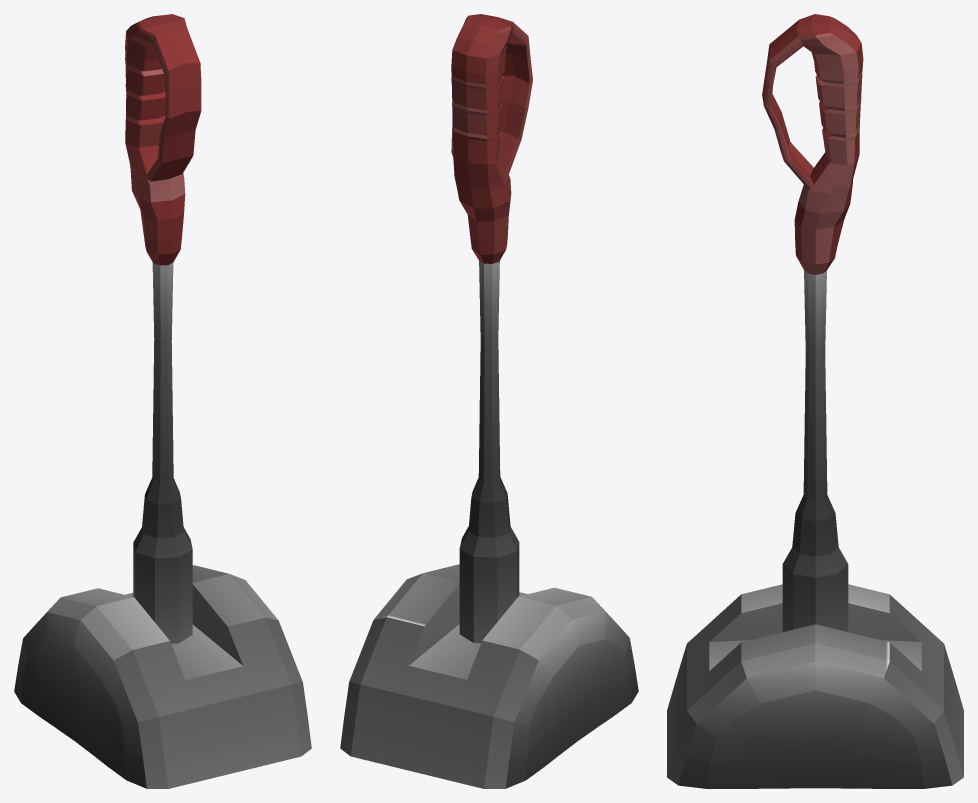
File: lever-Present.fbx
The picture shows the model from 3 angles, left to right: view 1: azimuth 30°, elevation 25°; view 2: azimuth 150°, elevation 25°; view 3: azimuth 270°, elevation 25°; orthographic projection. The views are drawn at different scales.
Visible parts, largest first — view 1: Base, Lever; view 2: Base, Lever; view 3: Base, Lever.
Part boxes in pixels (x1,y1,x2,y2): Base: [14, 565, 311, 788]; Lever: [125, 14, 201, 643]; Base: [340, 564, 638, 788]; Lever: [451, 14, 532, 643]; Base: [667, 584, 963, 788]; Lever: [762, 14, 863, 631].
Bounding box in the file's own units: 13.18 × 49.3 × 18.41.
